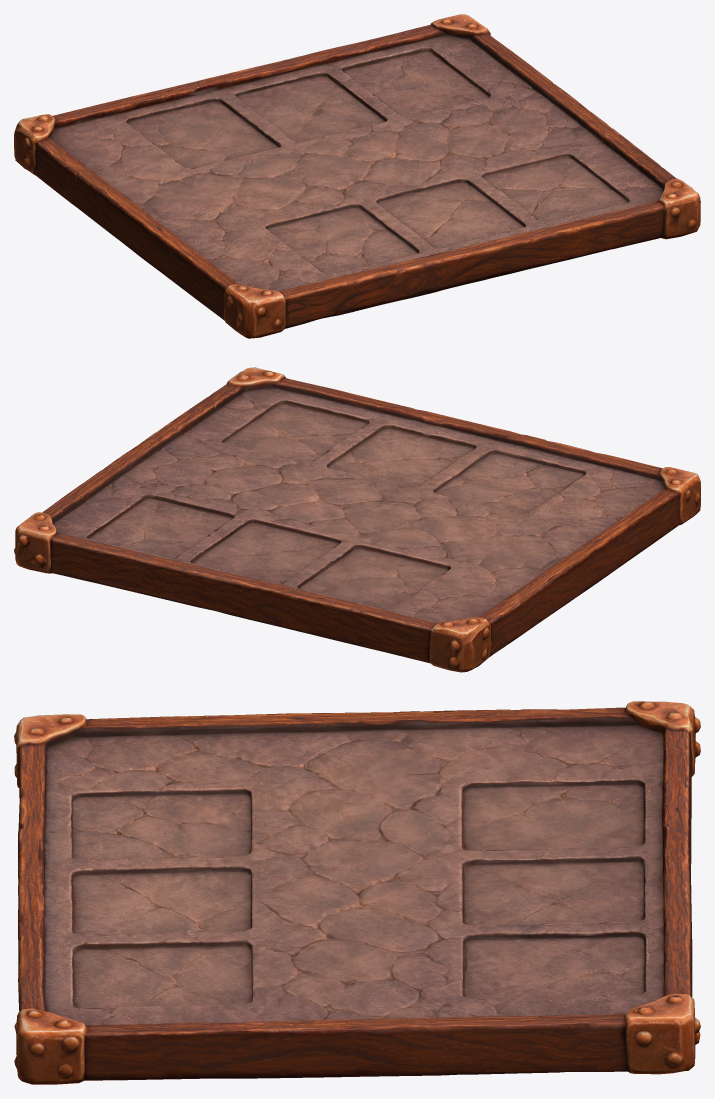
File: board.glb
3 renders of one model, top to bottom at view 1: azimuth 30°, elevation 25°; view 2: azimuth 150°, elevation 25°; view 3: azimuth 270°, elevation 25°, orthographic. The views are drawn at different scales.
Parts seen in each view (by area): view 1: tripo_node_9cc46f19-ede9-4752-aadb-0d92c9aad397; view 2: tripo_node_9cc46f19-ede9-4752-aadb-0d92c9aad397; view 3: tripo_node_9cc46f19-ede9-4752-aadb-0d92c9aad397.
Part boxes in pixels (box(x1,y1,x2,y2)): tripo_node_9cc46f19-ede9-4752-aadb-0d92c9aad397: box(14, 14, 700, 338); tripo_node_9cc46f19-ede9-4752-aadb-0d92c9aad397: box(14, 367, 700, 672); tripo_node_9cc46f19-ede9-4752-aadb-0d92c9aad397: box(14, 701, 700, 1084).
Bounding box in the file's own units: 0.9788 × 0.1097 × 0.8831.
1 material, 1 textured.
